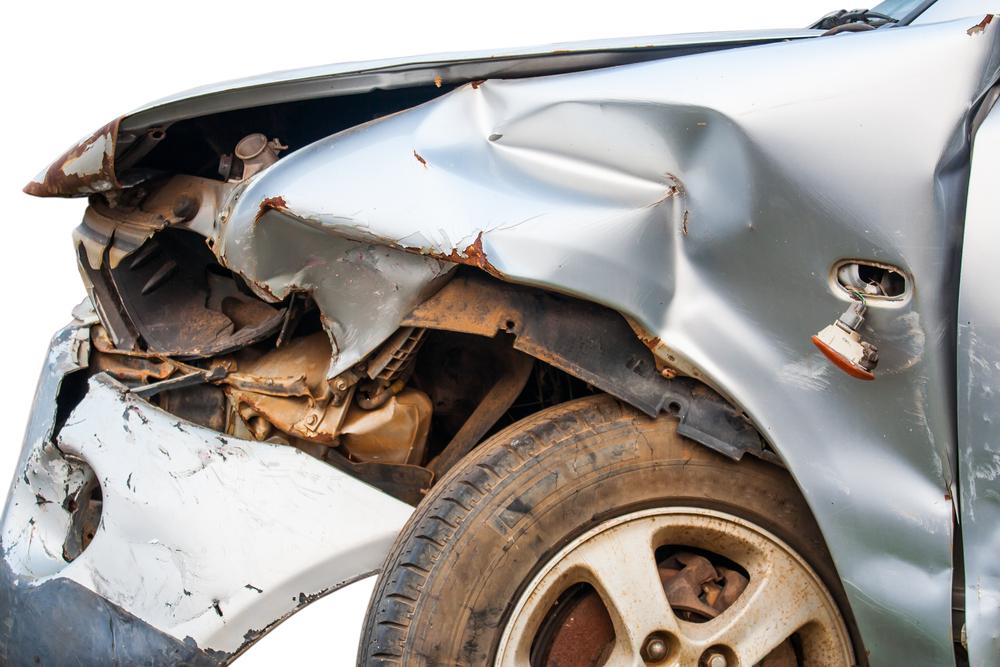crack: (47, 364, 104, 465)
dent: (234, 84, 950, 596), (960, 481, 1000, 625)
scratch: (87, 396, 308, 643), (891, 302, 950, 500), (958, 317, 1000, 527)
